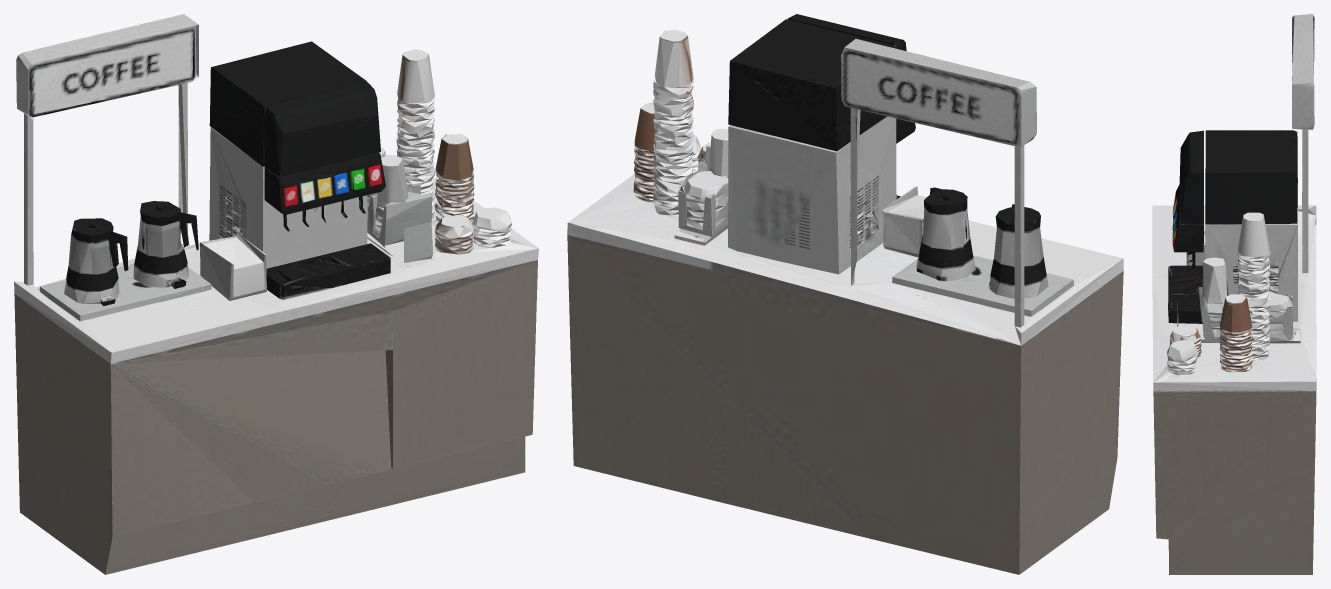
File: coffee_bar.glb
The picture shows the model from 3 angles, left to right: view 1: azimuth 30°, elevation 25°; view 2: azimuth 150°, elevation 25°; view 3: azimuth 270°, elevation 25°; orthographic projection. The views are drawn at different scales.
Bounding box in the file's own units: 1.86 × 1.9 × 0.7289.
Materials: 1 (1 with a texture image).
